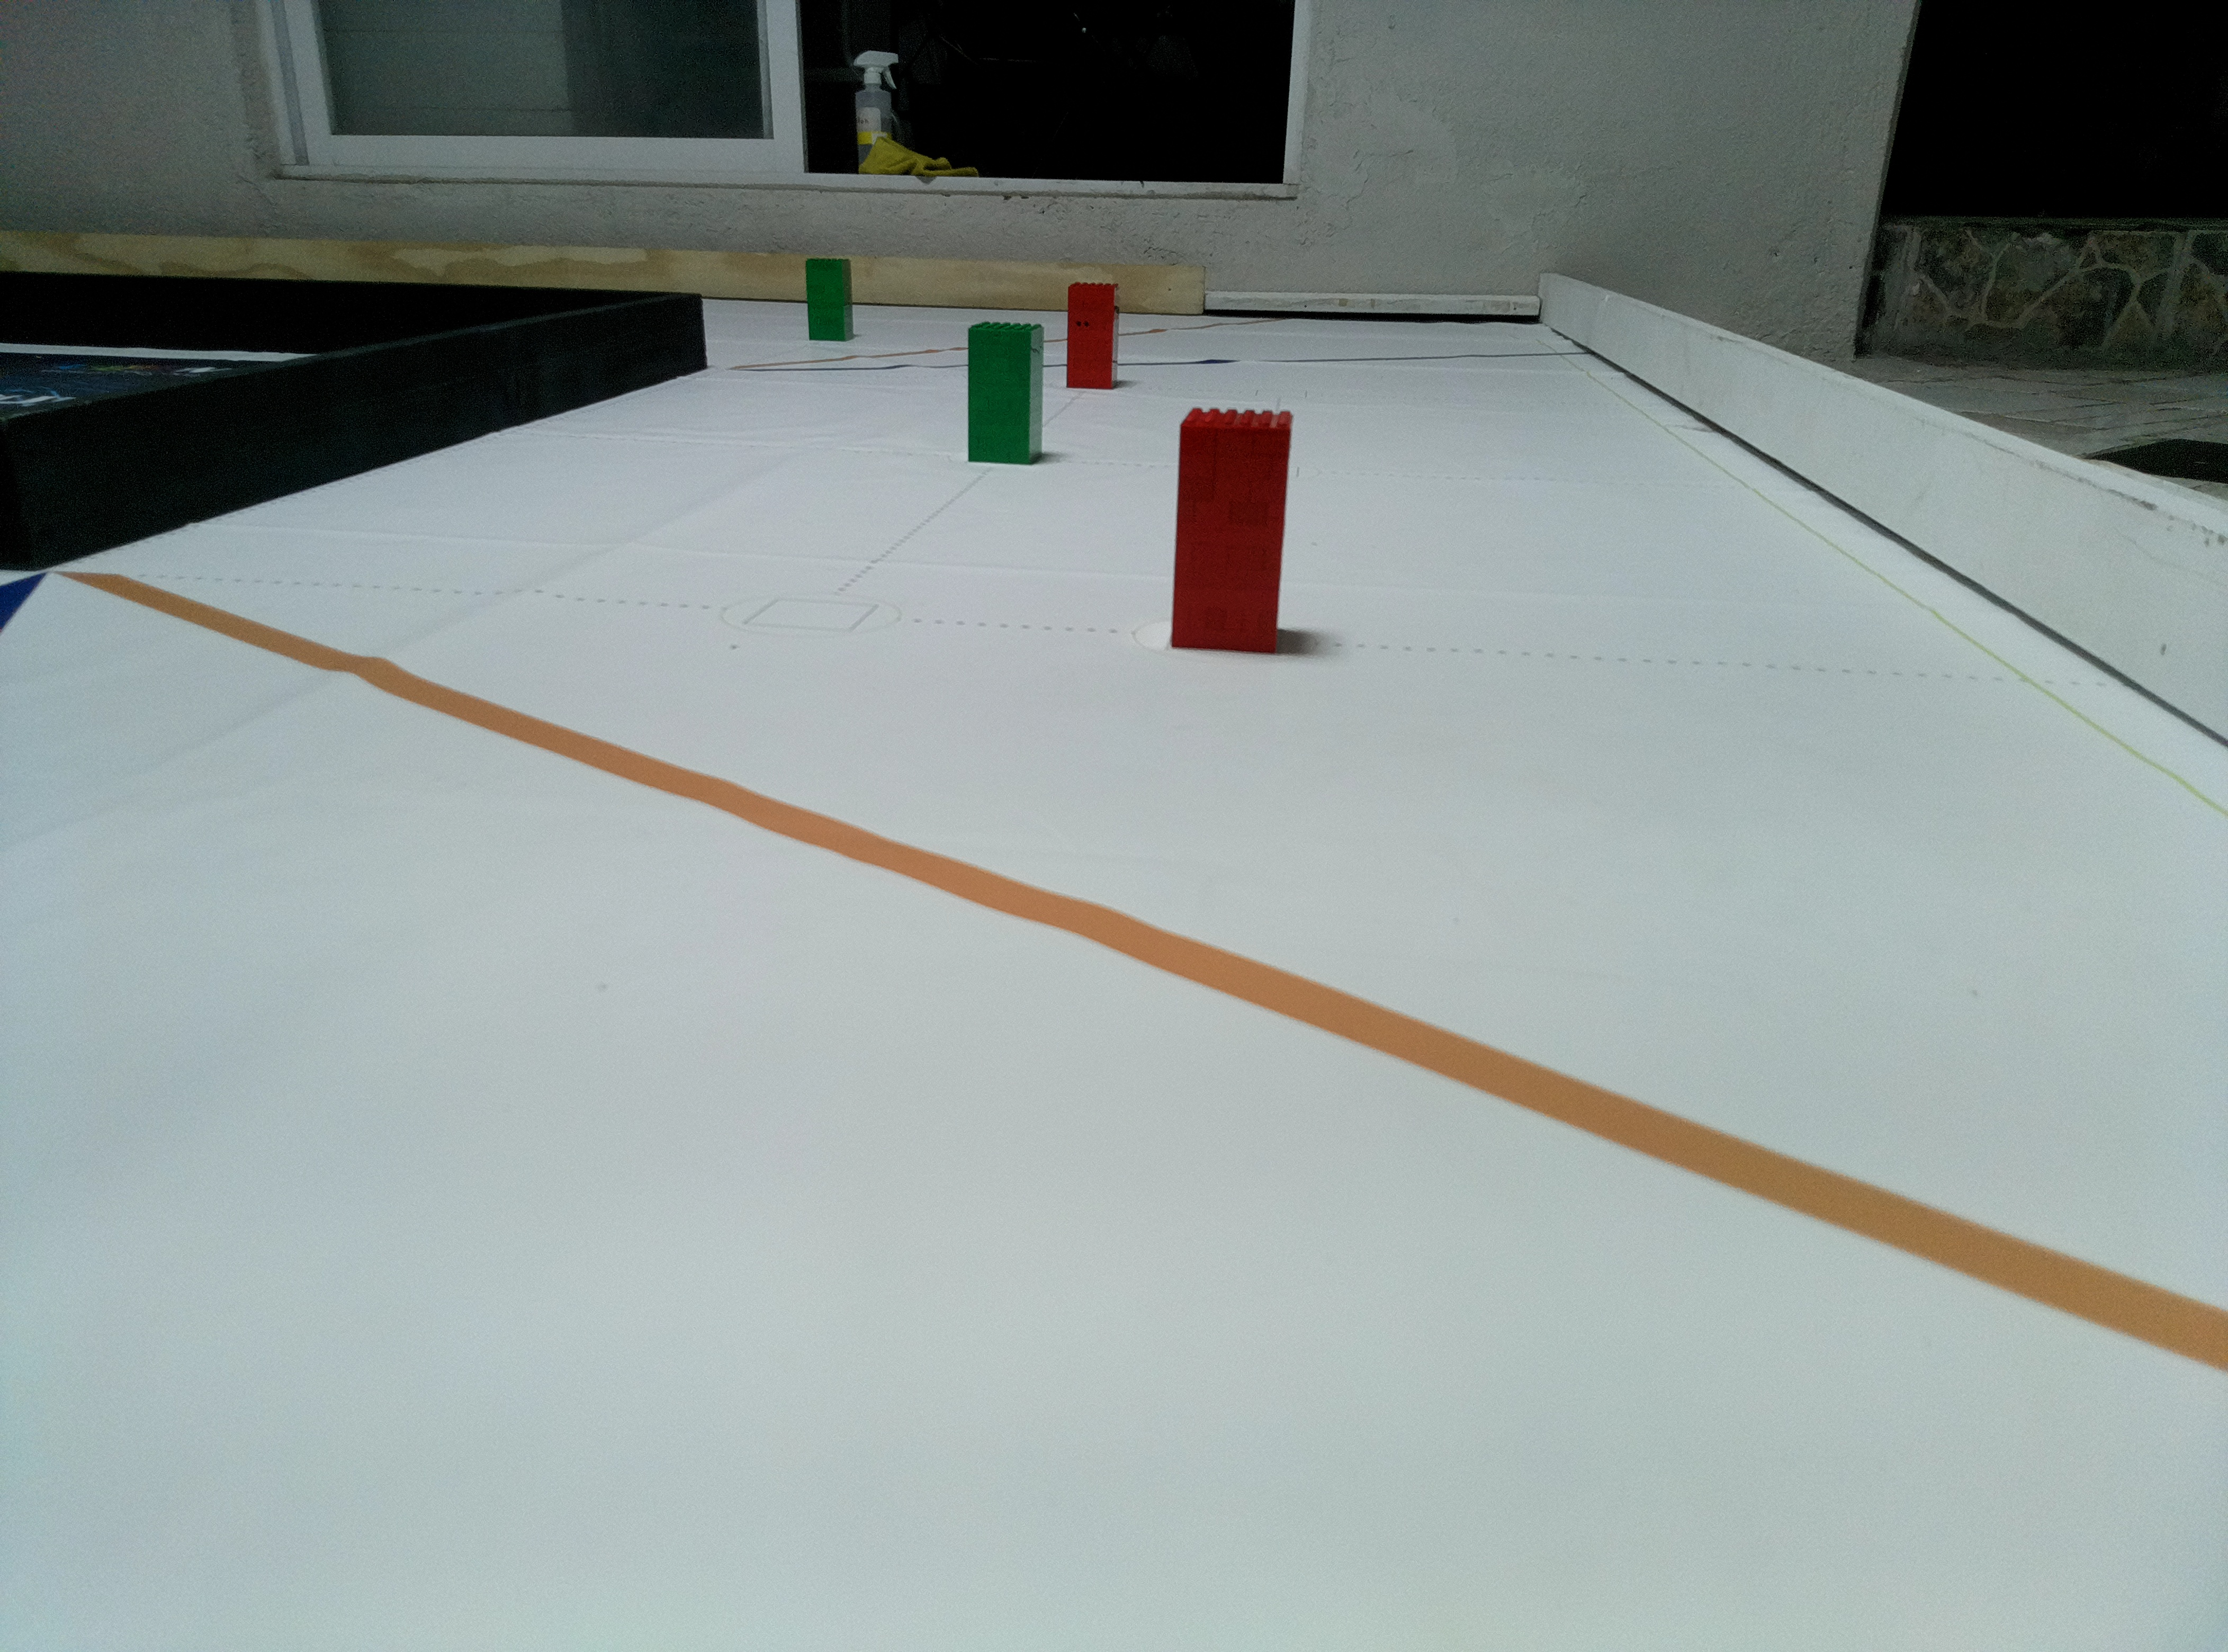greenbox: (965, 323, 1045, 465), (805, 257, 854, 342)
redbox: (1168, 404, 1291, 644), (1064, 278, 1123, 392)
